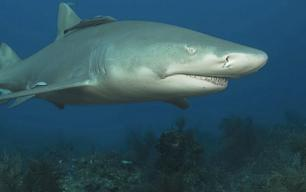Shark -Selachimorpha-: (0, 3, 267, 110)
